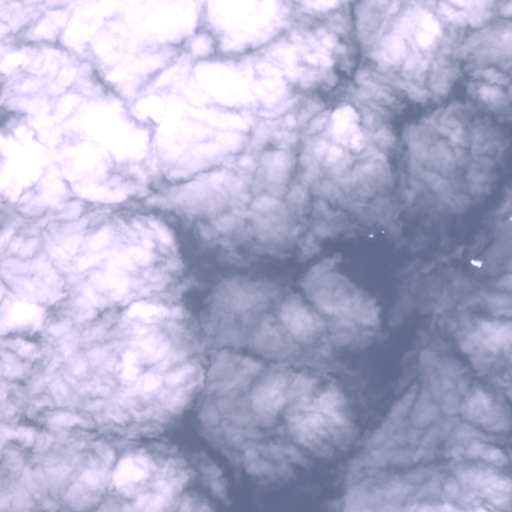Iceberg: (471, 259, 482, 267), (369, 234, 373, 237), (510, 217, 511, 220), (382, 231, 383, 232)
